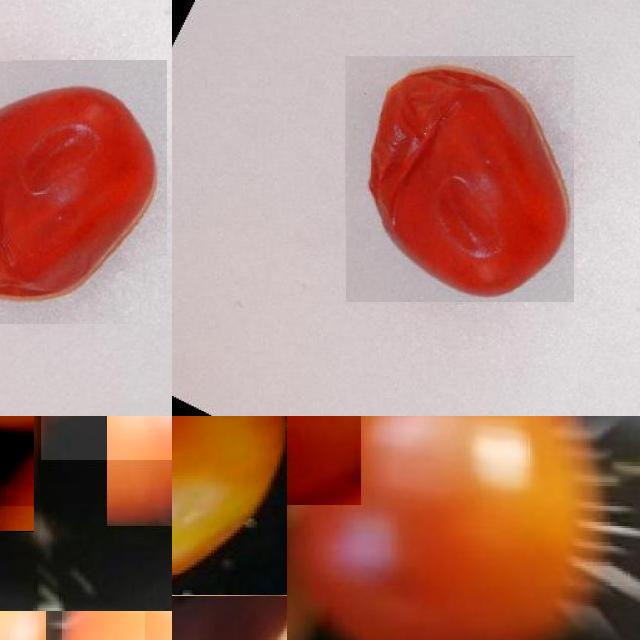0: (307, 416, 612, 640), (172, 416, 287, 595), (287, 416, 361, 505)
Rotten Tomato: (345, 56, 574, 302), (0, 60, 167, 324)
